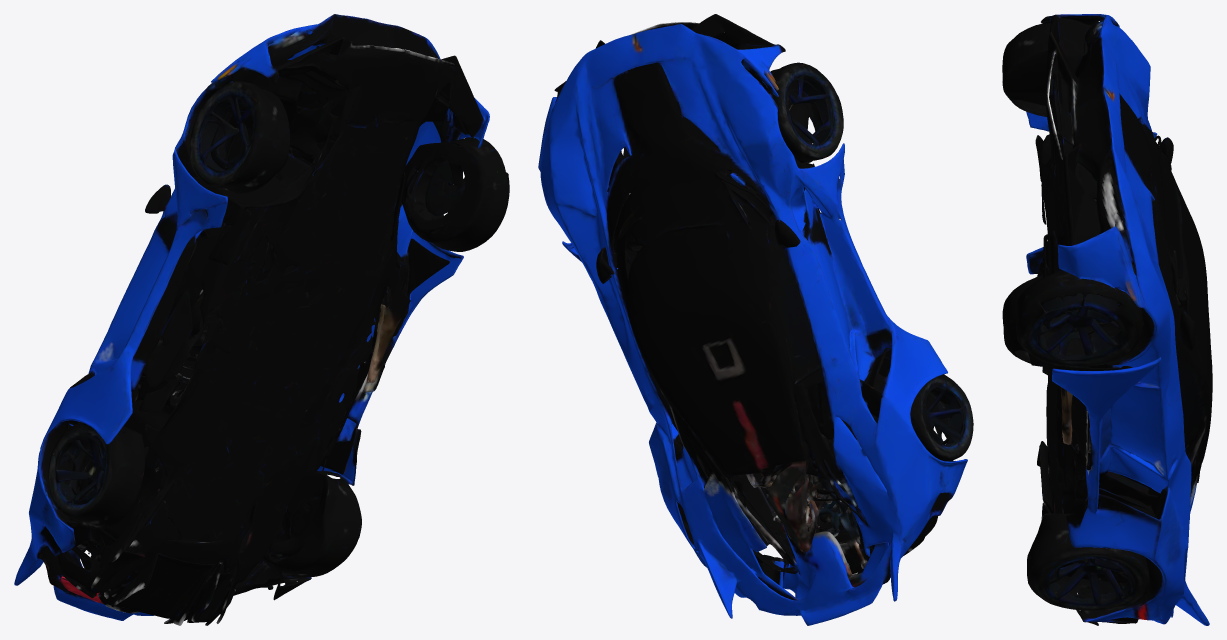
Rendered from blade.glb.
3 views of the same model, side by side, from view 1: azimuth 30°, elevation 25°; view 2: azimuth 150°, elevation 25°; view 3: azimuth 270°, elevation 25° (orthographic). The views are drawn at different scales.
Visible parts, largest first — view 1: body; view 2: body; view 3: body.
Boxes of the visible parts, bbox=[...] form: body: bbox=[14, 14, 509, 625]; body: bbox=[538, 14, 973, 625]; body: bbox=[1002, 14, 1212, 625].
Size of the model in its own units: 0.9334 by 1.18 by 0.3493.
Materials: 1 (1 with a texture image).
